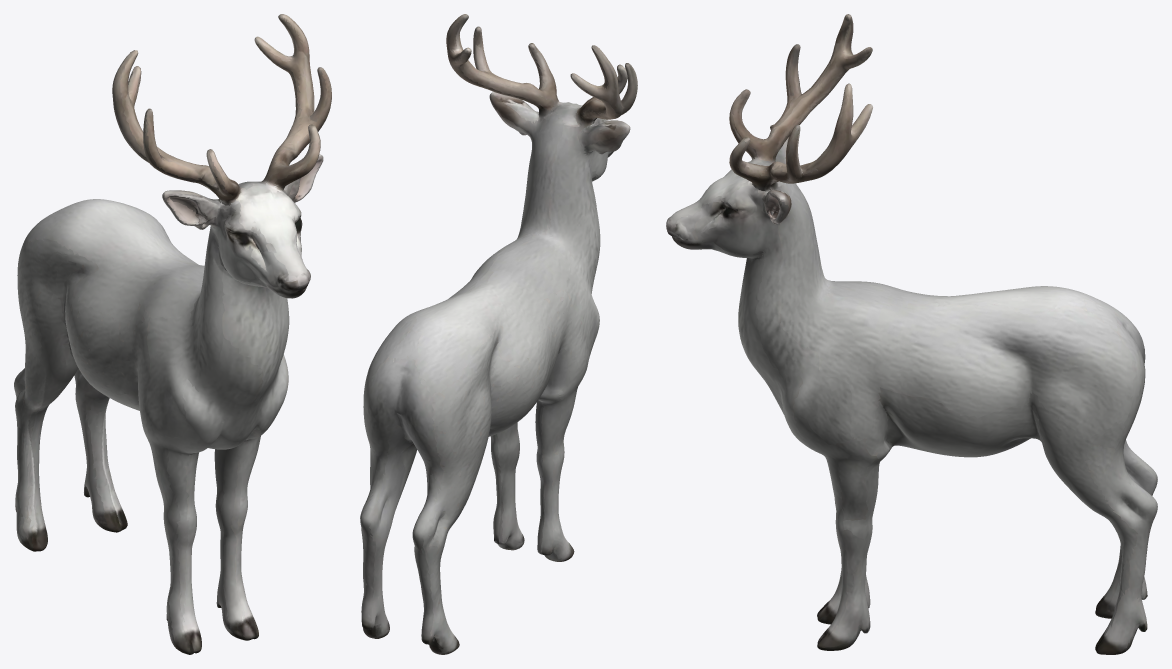
The model's file is fuzhu.glb.
The picture shows the model from 3 angles, left to right: view 1: azimuth 30°, elevation 25°; view 2: azimuth 150°, elevation 25°; view 3: azimuth 270°, elevation 25°; orthographic projection. The views are drawn at different scales.
Visible parts, largest first — view 1: geometry_0; view 2: geometry_0; view 3: geometry_0.
Part boxes in pixels (x1,y1,x2,y2): geometry_0: (14, 14, 331, 654); geometry_0: (360, 14, 637, 654); geometry_0: (666, 14, 1157, 654).
Bounding box in the file's own units: 1.8 × 5.35 × 4.07.
Materials: 1 (1 with a texture image).
